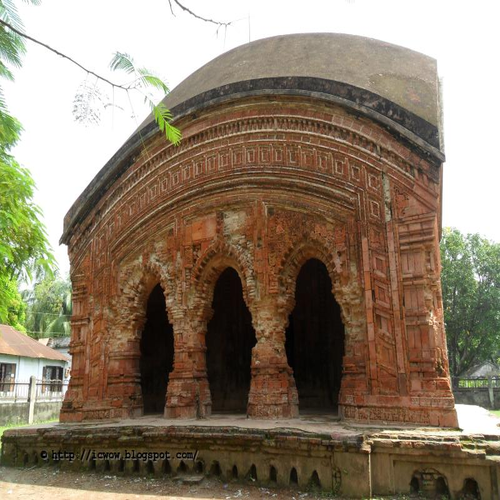Temple: (48, 33, 466, 435)
